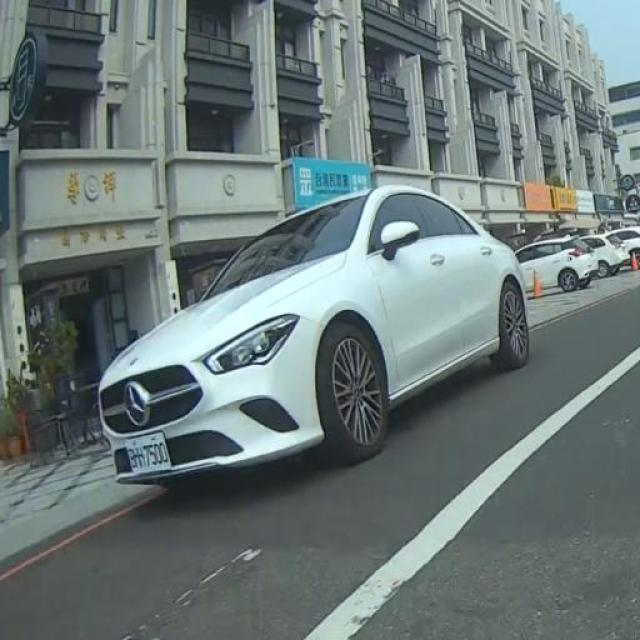Legalparking: (45, 128, 640, 533)
